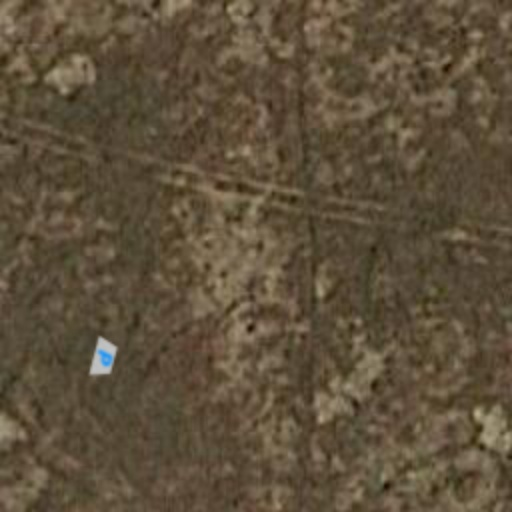trapezoid: (78, 332, 130, 384)
